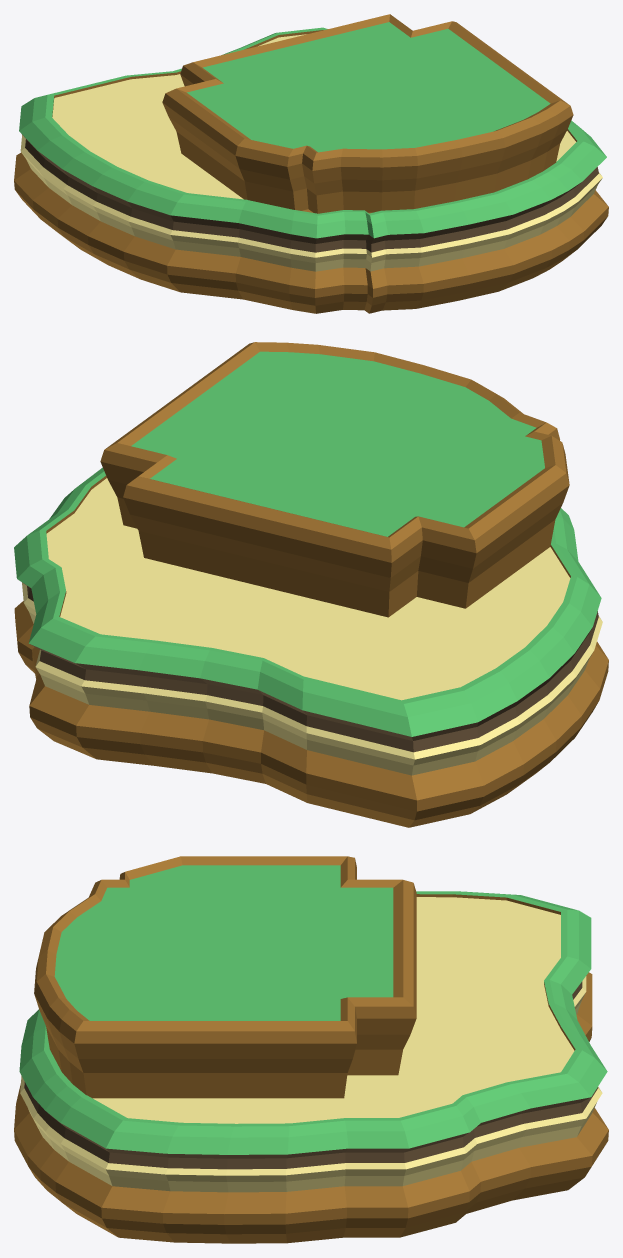
The model's file is Platform01.fbx.
3 renders of one model, top to bottom at view 1: azimuth 30°, elevation 25°; view 2: azimuth 150°, elevation 25°; view 3: azimuth 270°, elevation 25°, orthographic. The views are drawn at different scales.
Visible parts, largest first — view 1: Plane.030; view 2: Plane.030; view 3: Plane.030.
Boxes of the visible parts, left/top/right/bottom form: Plane.030: left=14, top=14, right=608, bottom=313; Plane.030: left=14, top=342, right=608, bottom=827; Plane.030: left=14, top=856, right=608, bottom=1243.
Size of the model in its own units: 5135 by 1780 by 4961.
